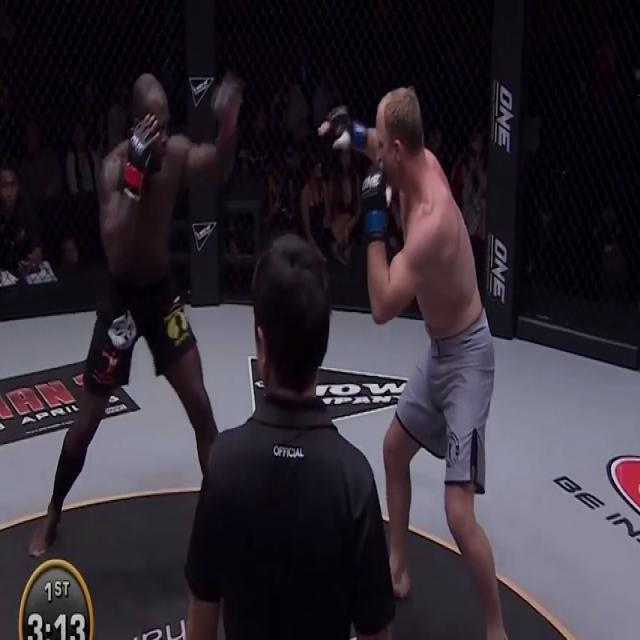fight: (30, 64, 530, 639)
